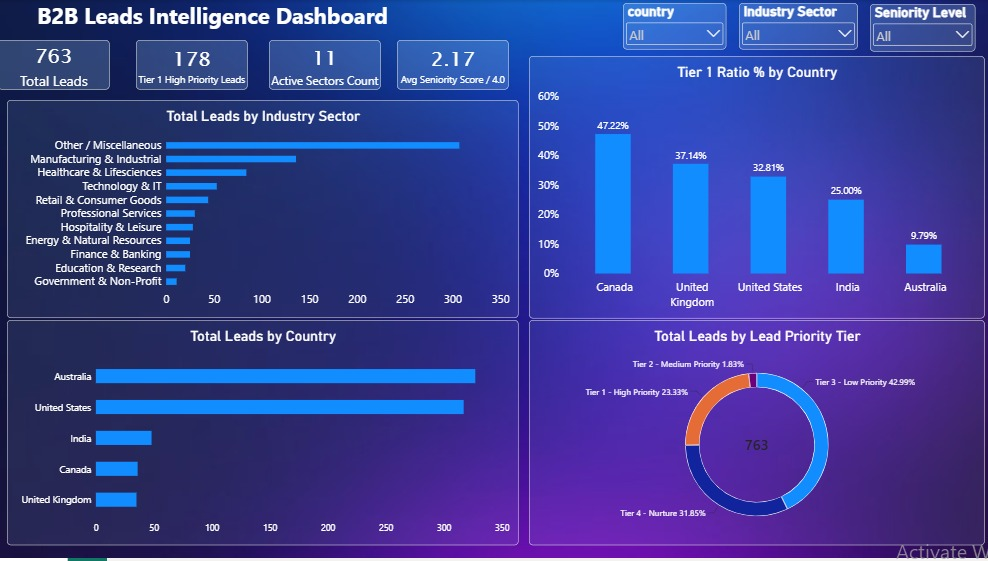

The dashboard page shown, as its layout file describes it:
{"tool":"powerbi","page":{"name":"Page 1","canvas":[1920,1080],"ordinal":0},"visuals":[{"type":"slicer","fields":{"Values":["vw_prioritized_b2b_leads.country"]},"box":[30,77.1,261.1,109.2],"z":0},{"type":"slicer","fields":{"Values":["vw_prioritized_b2b_leads.seniority_level"]},"box":[340.3,77.1,261.1,109],"z":1000},{"type":"card","fields":{"Values":["_Measures.Tier 1 High Priority Leads"]},"box":[44.6,202,231,114],"z":2000},{"type":"card","fields":{"Values":["_Measures.Tier 1 Ratio %"]},"box":[312.3,202,231,114],"z":3000},{"type":"card","fields":{"Values":["_Measures.Tier 1 + Tier 2 Leads"]},"box":[848.3,202,231,114.8],"z":4000},{"type":"card","fields":{"Values":["_Measures.Total Leads"]},"box":[579.9,202,231.7,114.8],"z":5000},{"type":"barChart","title":"Total Leads by Seniority Level and Lead Priority Tier","fields":{"Category":["vw_prioritized_b2b_leads.seniority_level"],"Series":["vw_prioritized_b2b_leads.lead_priority_tier"],"Y":["_Measures.Total Leads"]},"box":[0,695.2,1075,384.8],"z":7000},{"type":"clusteredBarChart","title":"Total Leads by Country","fields":{"Category":["vw_prioritized_b2b_leads.country"],"Y":["_Measures.Total Leads"]},"box":[0,325.3,1080,365],"z":8000},{"type":"clusteredColumnChart","title":"Tier 1 Ratio % by Country","fields":{"Category":["vw_prioritized_b2b_leads.country"],"Y":["_Measures.Tier 1 Ratio %"]},"box":[1082.1,95.7,837.6,595],"z":9000},{"type":"textbox","box":[17.1,0,1902.9,57.8],"z":10000},{"type":"textbox","box":[573.6,57.8,774.8,38.5],"z":11000},{"type":"donutChart","title":"Total Leads by Lead Priority Tier","fields":{"Category":["vw_prioritized_b2b_leads.seniority_level"],"Y":["_Measures.Total Leads"]},"box":[1080,695.2,839.8,384.8],"z":12000}]}

Visuals, with their boxes in screenshot pixels (x1, y1, x2, y2), scaled from the page's 1920x1080 canvas onto the 988x561 screenshot:
slicer - vw_prioritized_b2b_leads.country: select_region(15, 40, 150, 97)
slicer - vw_prioritized_b2b_leads.seniority_level: select_region(175, 40, 309, 97)
card - _Measures.Tier 1 High Priority Leads: select_region(23, 105, 142, 164)
card - _Measures.Tier 1 Ratio %: select_region(161, 105, 280, 164)
card - _Measures.Tier 1 + Tier 2 Leads: select_region(437, 105, 555, 165)
card - _Measures.Total Leads: select_region(298, 105, 418, 165)
"Total Leads by Seniority Level and Lead Priority Tier" barChart: select_region(0, 361, 553, 560)
"Total Leads by Country" clusteredBarChart: select_region(0, 169, 556, 359)
"Tier 1 Ratio % by Country" clusteredColumnChart: select_region(557, 50, 987, 359)
textbox: select_region(9, 0, 987, 30)
textbox: select_region(295, 30, 694, 50)
"Total Leads by Lead Priority Tier" donutChart: select_region(556, 361, 987, 560)
